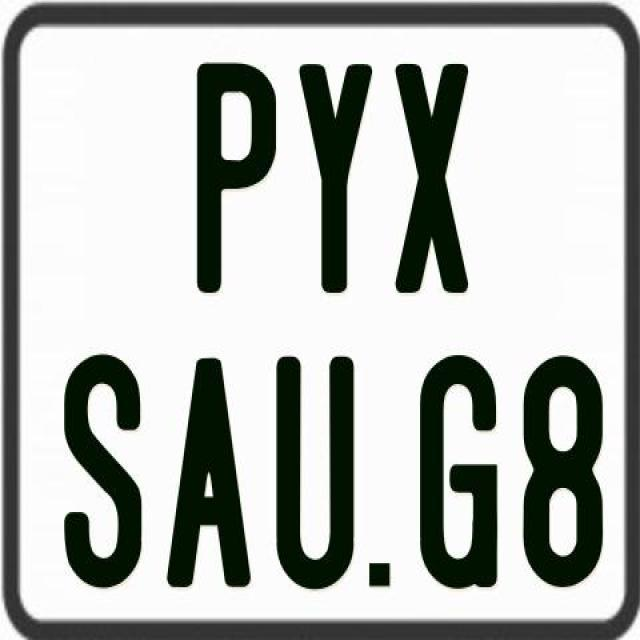8: (520, 355, 607, 592)
A: (164, 353, 256, 588)
G: (417, 356, 499, 596)
P: (193, 59, 275, 293)
S: (60, 354, 146, 596)
U: (276, 354, 356, 590)
X: (394, 64, 466, 302)
Y: (296, 59, 375, 288)
